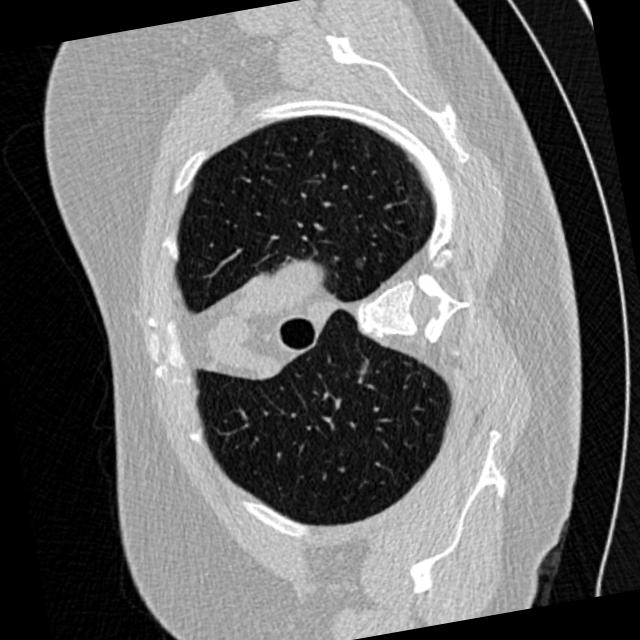nodule: (347, 254, 370, 276)
